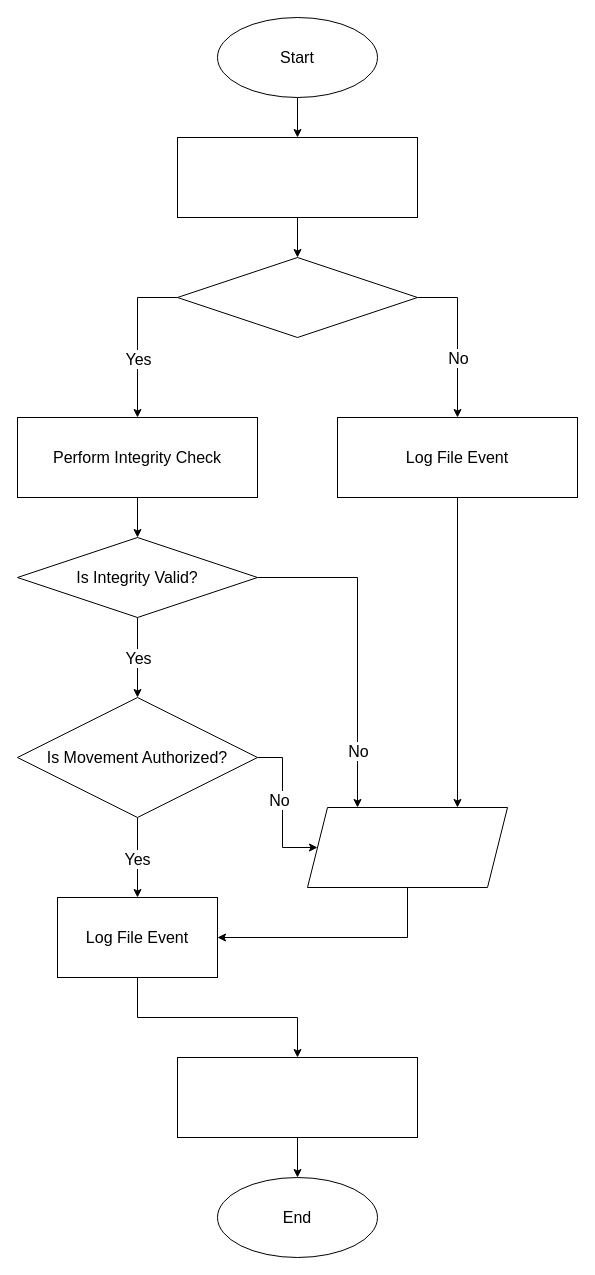
Image size: 595x1275. Some labels were removed from this diagram. Each missing label, with the centre of its shape:
"Create Final Audit Report" goes at (x=297, y=1097).
"Generate Alert" goes at (x=407, y=847).
"Is File Sensitive?" goes at (x=297, y=297).
"Monitor File System Events" goes at (x=297, y=177).
